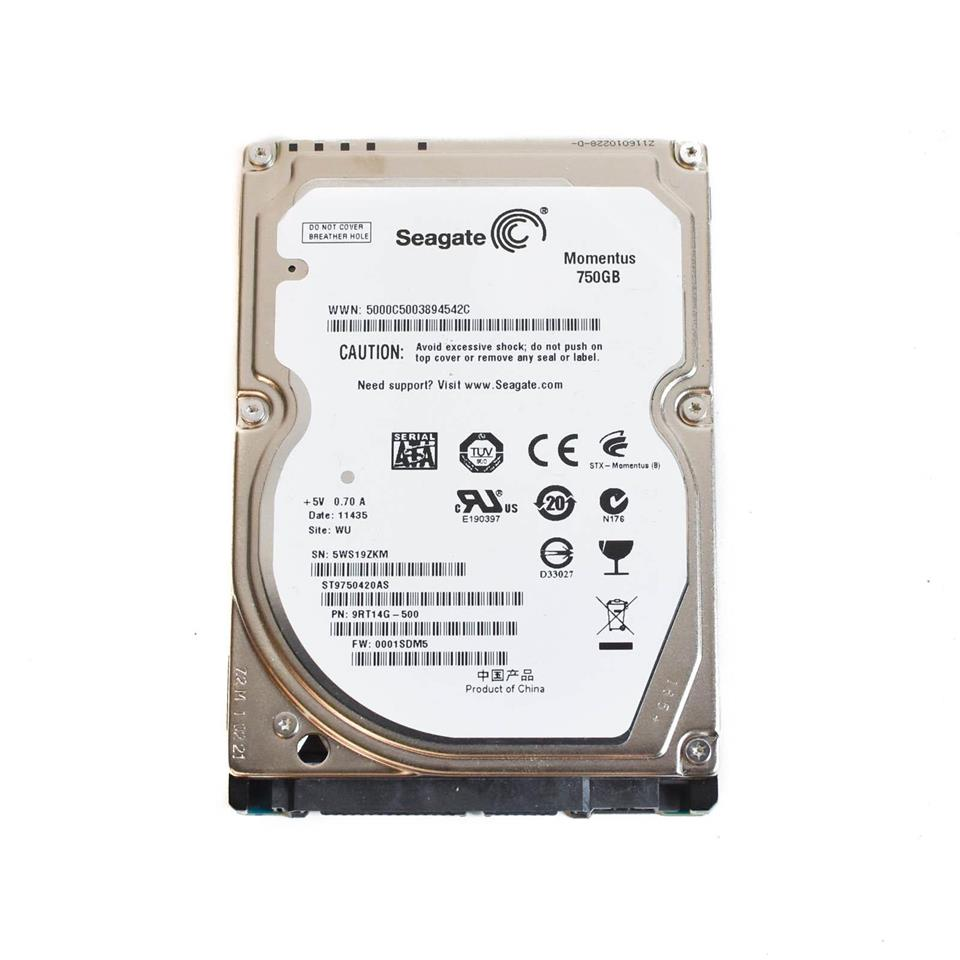2.5" Hard Drive: (199, 113, 773, 848)
